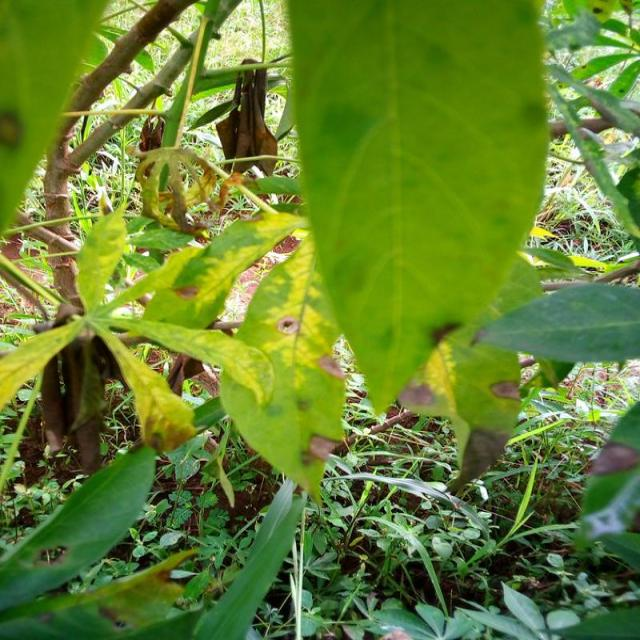cassava leaf: (282, 0, 552, 417), (218, 231, 346, 504)
